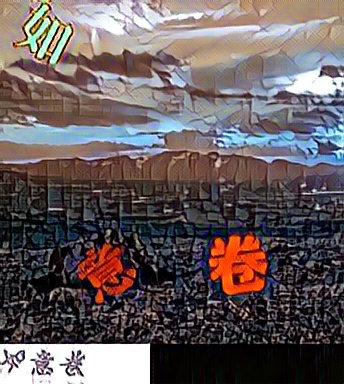BEED: (206, 235, 271, 300)
C8E7: (12, 4, 77, 69)
D2E2: (73, 241, 138, 306)
